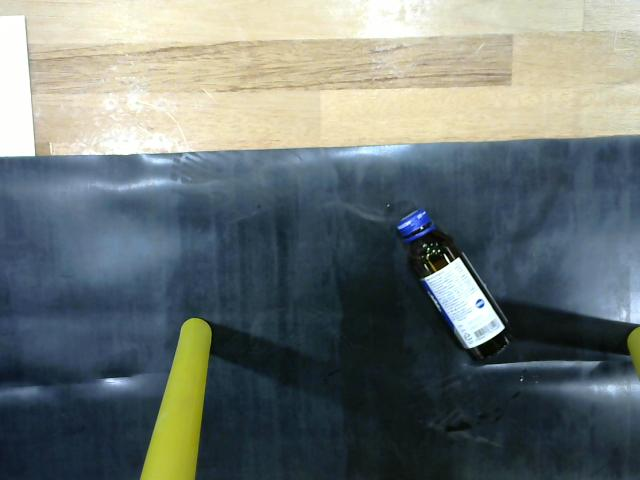glass: (388, 204, 518, 374)
